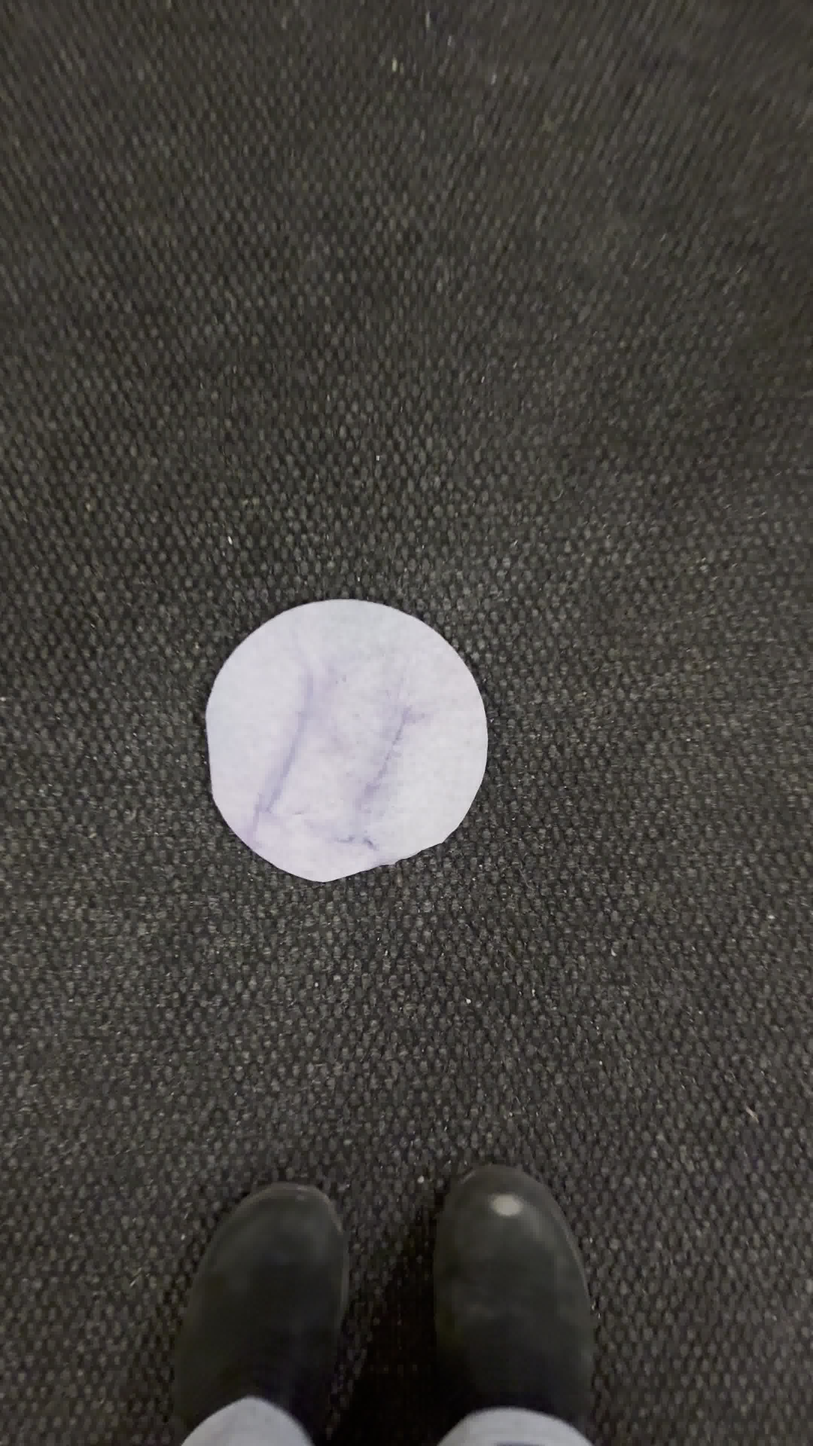Target: (199, 599, 490, 884)
